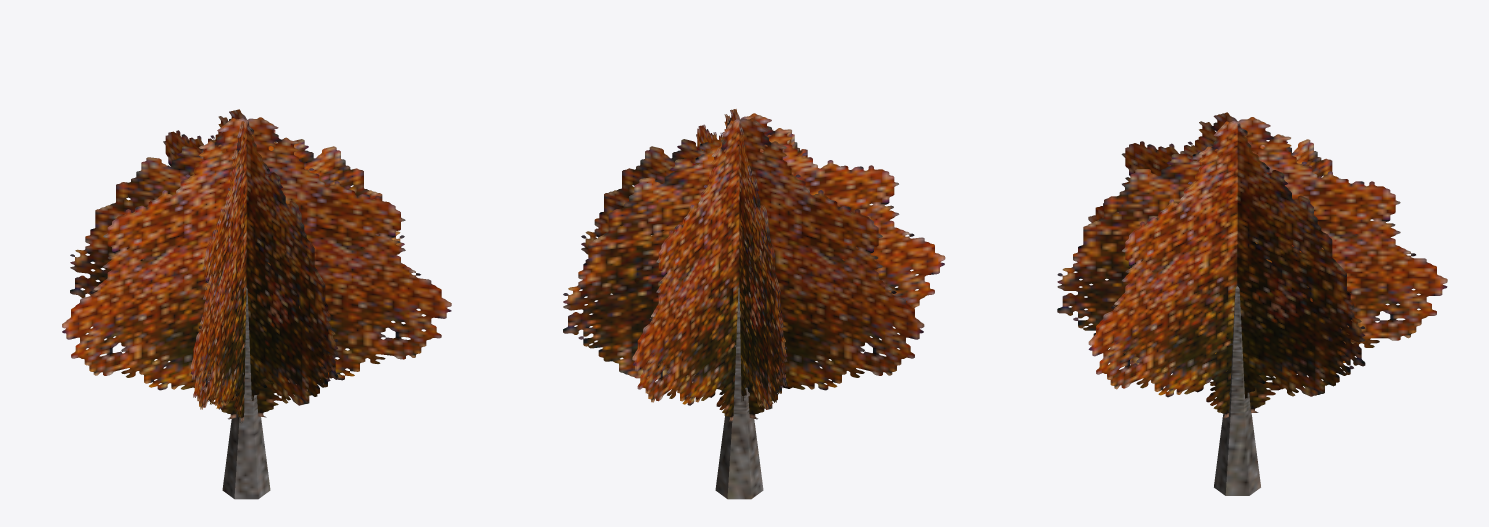
File: tree34.glb
3 views of the same model, side by side, from view 1: azimuth 30°, elevation 25°; view 2: azimuth 150°, elevation 25°; view 3: azimuth 270°, elevation 25° (orthographic).
Visible parts, largest first — view 1: tree34; view 2: tree34; view 3: tree34.
Part boxes in pixels (x1,y1,x2,y2): tree34: (62,109,451,499); tree34: (563,109,945,499); tree34: (1057,112,1447,495).
Size of the model in its own units: 14.4 by 12.5 by 14.4.
Materials: 1 (1 with a texture image).
